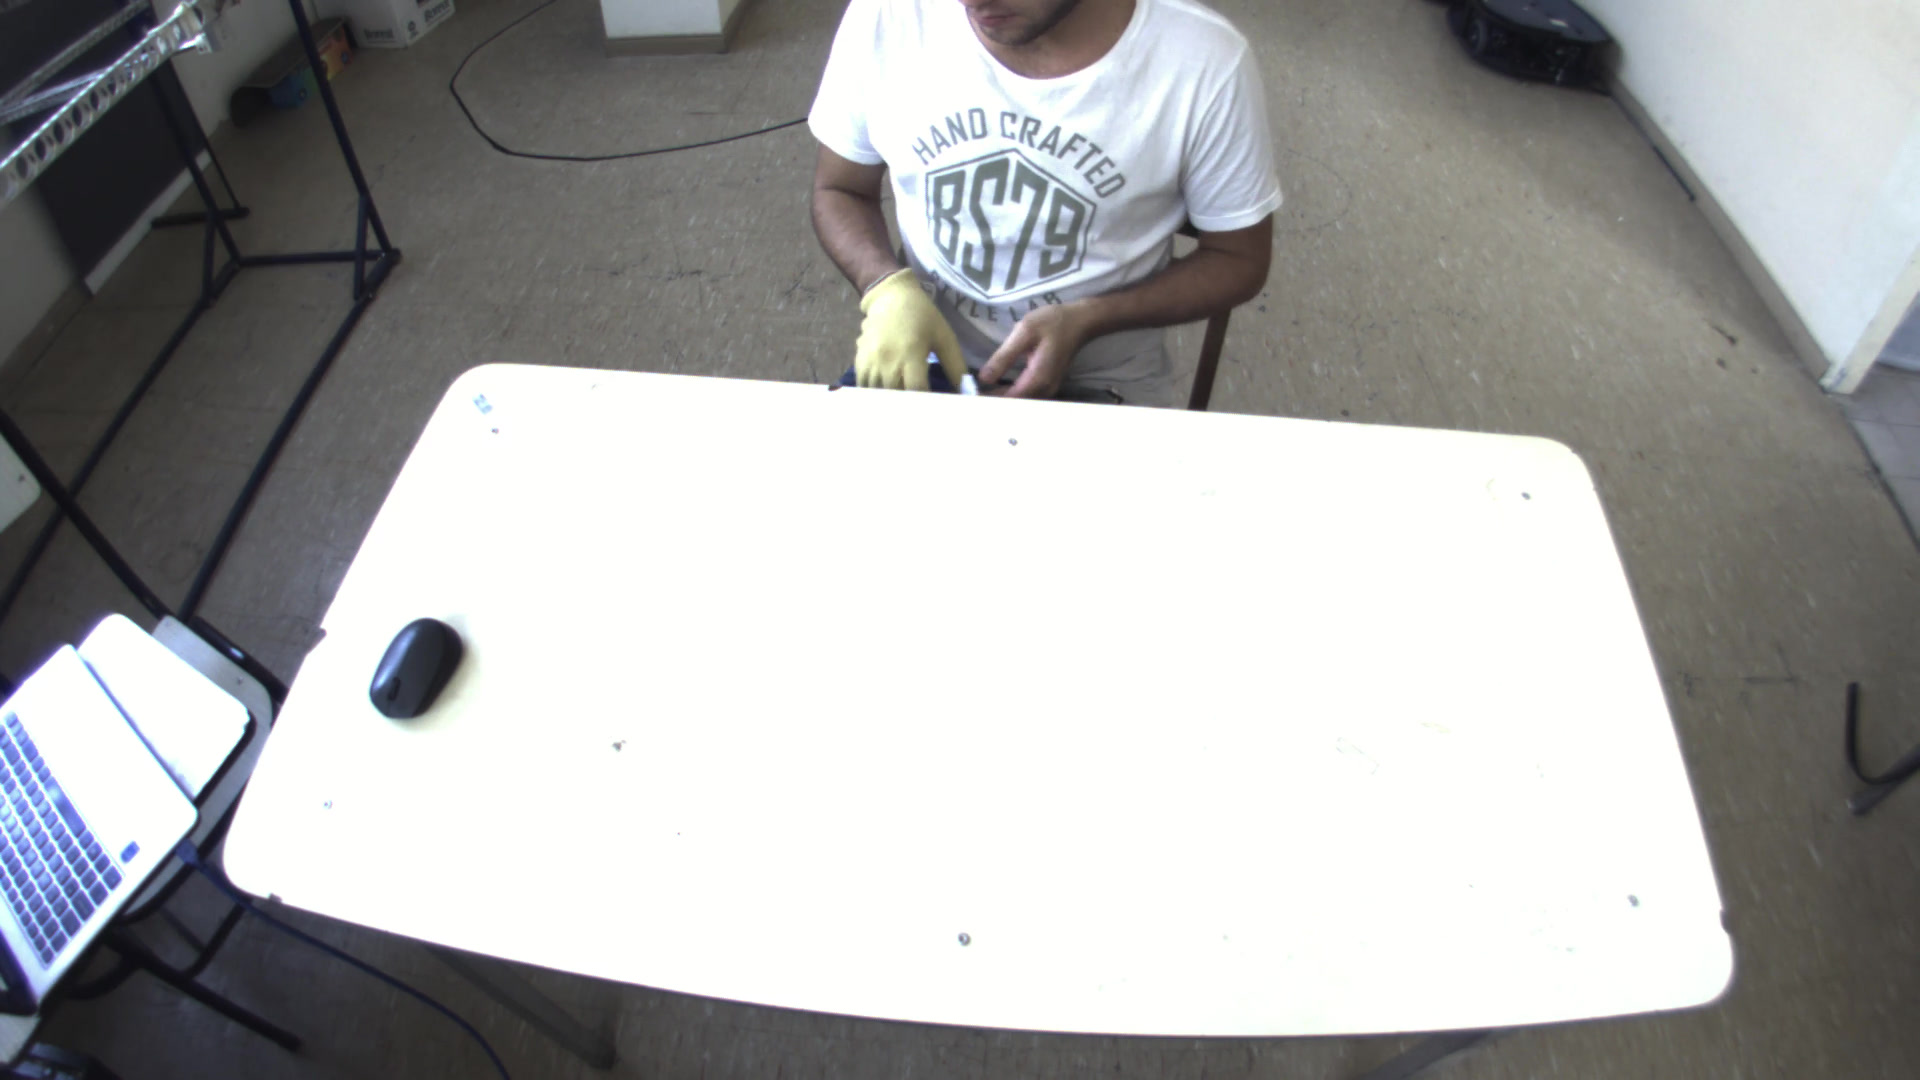hand: (833, 258, 968, 398), (977, 293, 1100, 404)
